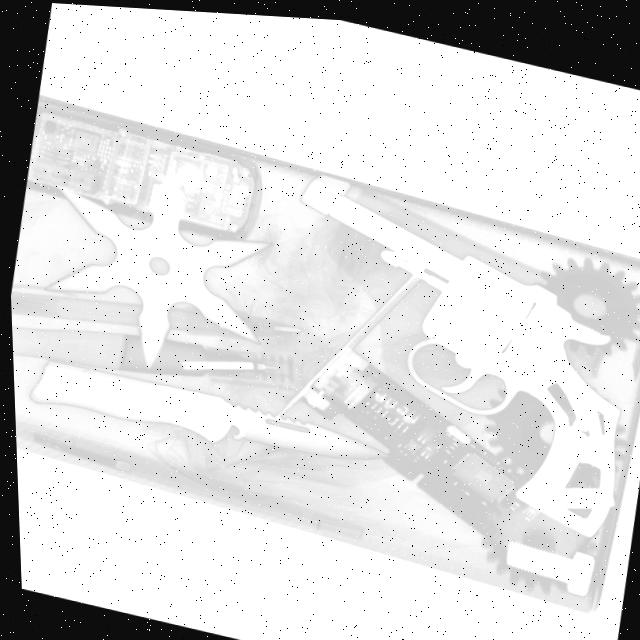knife: (23, 348, 388, 480)
pistol: (250, 162, 640, 533)
